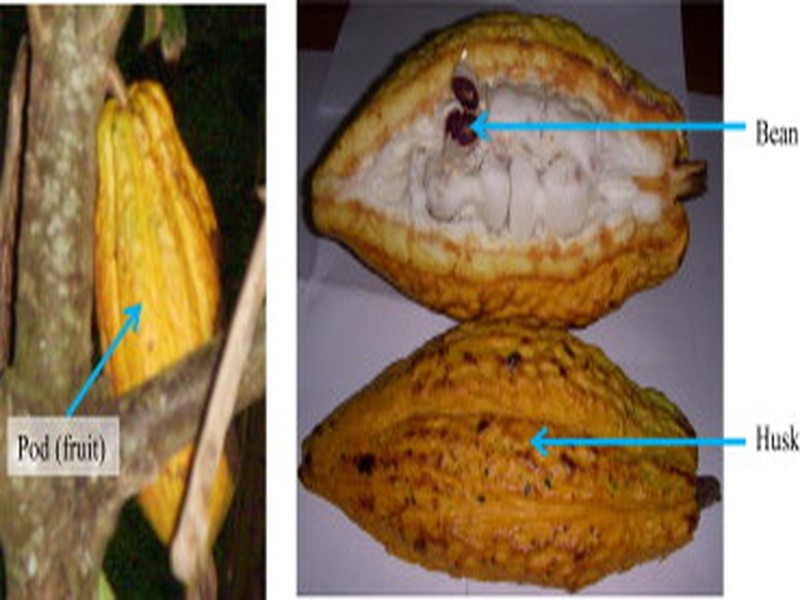Cacaopod: (303, 320, 716, 590)
